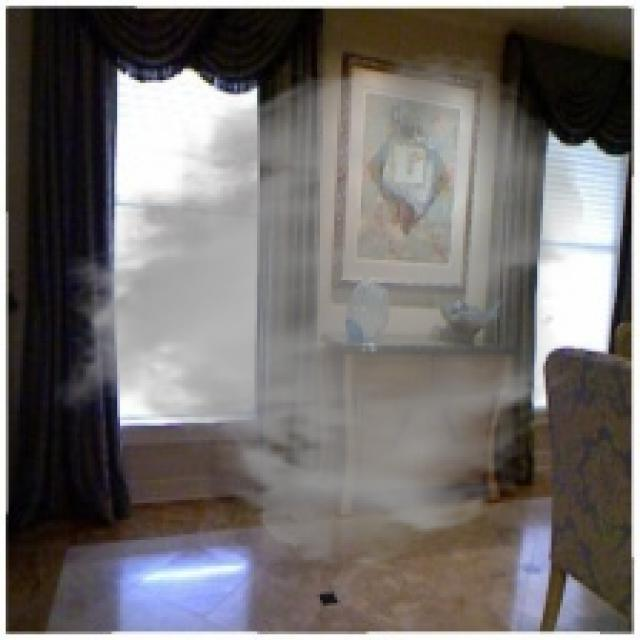Smoke: (51, 49, 588, 572)
